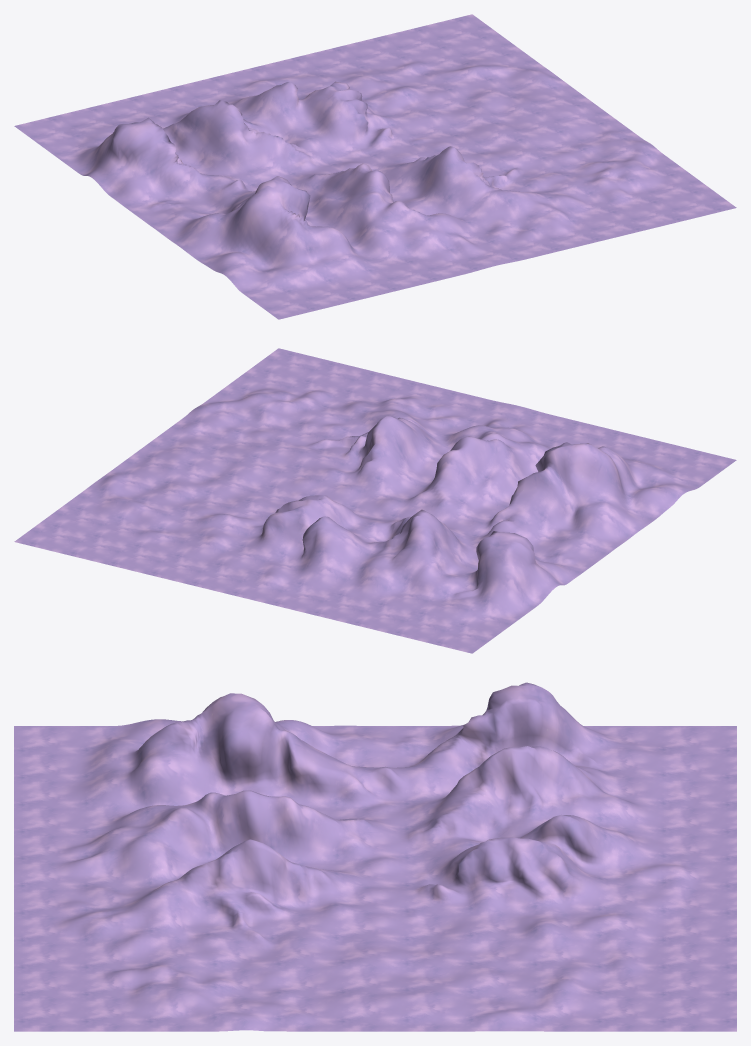
File: LandscapeFBX.fbx
3 views of the same model, one above another, from view 1: azimuth 30°, elevation 25°; view 2: azimuth 150°, elevation 25°; view 3: azimuth 270°, elevation 25° (orthographic). The views are drawn at different scales.
Visible parts, largest first — view 1: Landscape; view 2: Landscape; view 3: Landscape.
Part boxes in pixels (x1,y1,x2,y2): Landscape: (14,14,736,319); Landscape: (14,348,736,653); Landscape: (14,682,736,1031).
Bounding box in the file's own units: 1012 × 121 × 1006.
1 material, 1 textured.
